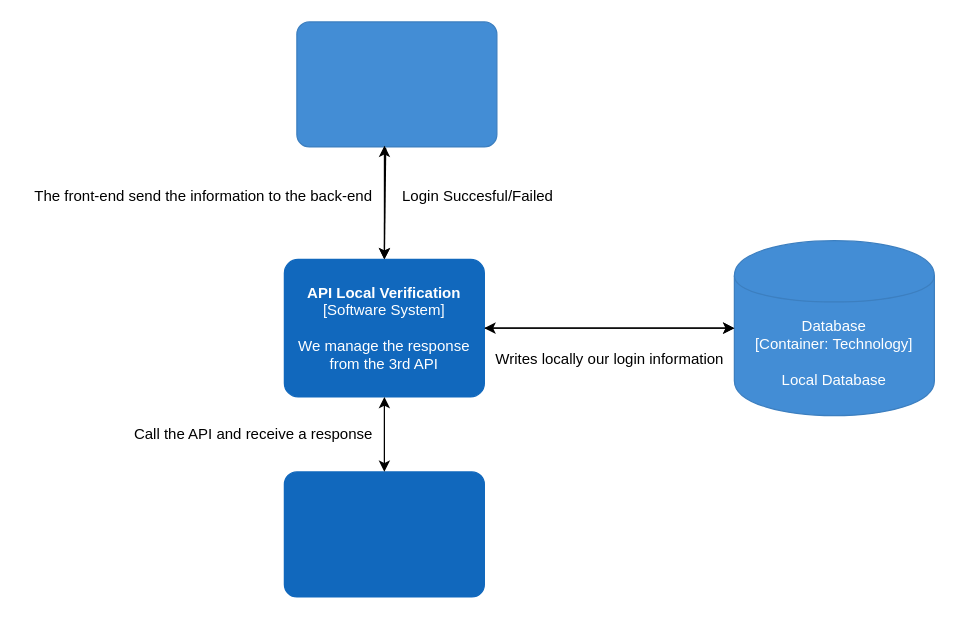
This 956x619 diagram has some shape labels left out. The shapes that lost their labels are listed below. From the top down, each one's box as (x1, y1, x2, y2) in pixels, then its label:
(296, 21, 497, 147): Log In Button [Container: JAVA] The log-in button the costumer will use
(283, 471, 484, 597): 3rd API [Software System] The API of existing messenger platforms
